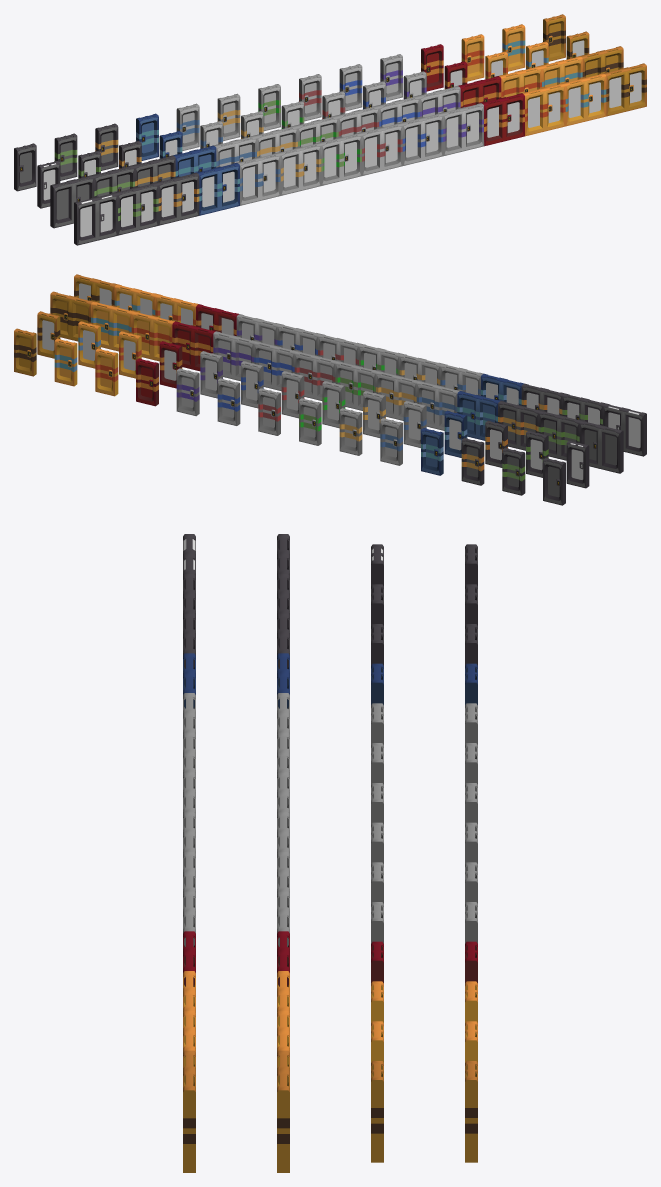
The model's file is airlocks.fbx.
3 renders of one model, top to bottom at view 1: azimuth 30°, elevation 25°; view 2: azimuth 150°, elevation 25°; view 3: azimuth 270°, elevation 25°, orthographic. The views are drawn at different scales.
Visible parts, largest first — view 1: Airlock Double Left, Airlock Double Glass Left, Airlock, Airlock Atmospherics, Airlock Engineering, Airlock Genetics, Airlock Medical, Airlock Maintenance, Airlock Medical Double Glass Left, Airlock Research Double Glass Right, Airlock Chemistry, Airlock Chemistry Double Glass Left (+72 smaller); view 2: Airlock Double Left, Airlock Atmospherics, Airlock Genetics, Airlock Research, Airlock Chemistry, Airlock Civilian, Airlock Engineering, Airlock Maintenance, Airlock Double Glass Left, Airlock Glass, Airlock Command, Airlock (+72 smaller); view 3: Airlock Supply Double Glass Right, Airlock Supply Double Right, Airlock Supply, Airlock Supply Glass.
Boxes of the visible parts, x1,y1,x2,y2 form: Airlock Double Left: [50, 180, 73, 228]; Airlock Double Glass Left: [74, 197, 97, 245]; Airlock: [14, 143, 36, 191]; Airlock Atmospherics: [502, 24, 525, 71]; Airlock Engineering: [461, 34, 484, 81]; Airlock Genetics: [339, 64, 362, 111]; Airlock Medical: [176, 103, 199, 150]; Airlock Maintenance: [95, 123, 118, 170]; Airlock Medical Double Glass Left: [237, 157, 260, 205]; Airlock Research Double Glass Right: [461, 103, 484, 151]; Airlock Chemistry: [217, 93, 240, 141]; Airlock Chemistry Double Glass Left: [278, 148, 300, 195]; Airlock Double Left: [600, 425, 623, 473]; Airlock Atmospherics: [54, 338, 77, 386]; Airlock Genetics: [217, 378, 240, 425]; Airlock Research: [176, 368, 199, 416]; Airlock Chemistry: [339, 408, 362, 455]; Airlock Civilian: [502, 447, 525, 495]; Airlock Engineering: [95, 348, 118, 396]; Airlock Maintenance: [461, 437, 484, 485]; Airlock Double Glass Left: [623, 408, 646, 456]; Airlock Glass: [566, 440, 589, 488]; Airlock Command: [421, 428, 443, 475]; Airlock: [543, 457, 565, 505]; Airlock Supply Double Glass Right: [183, 1070, 195, 1172]; Airlock Supply Double Right: [277, 1070, 289, 1172]; Airlock Supply: [465, 1061, 477, 1162]; Airlock Supply Glass: [371, 1061, 383, 1162].
Size of the model in its own units: 28 by 1.94 by 6.28.
